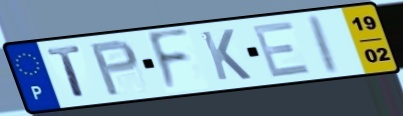E: (249, 19, 314, 80)
F: (145, 26, 193, 96)
I: (307, 13, 343, 77)
K: (198, 27, 255, 83)
P: (87, 38, 141, 98)
T: (44, 44, 89, 101)
